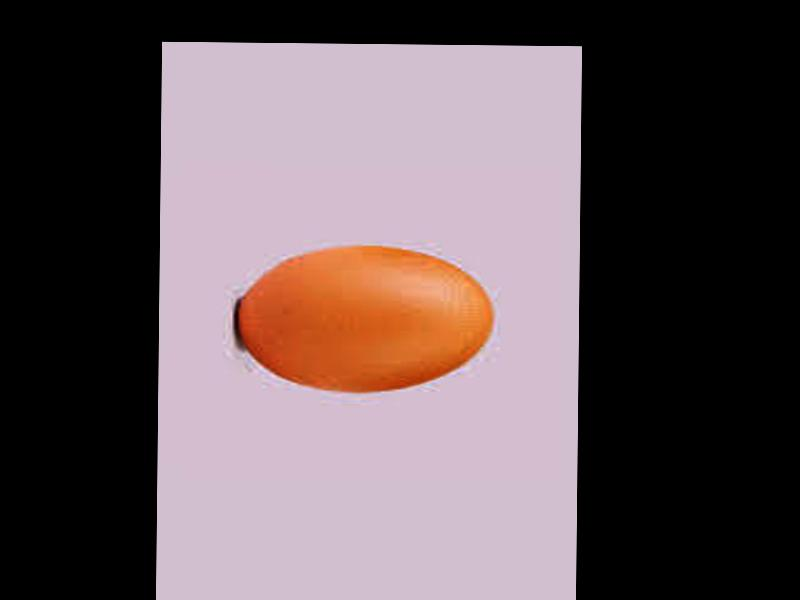Eggs: (234, 246, 497, 392)
